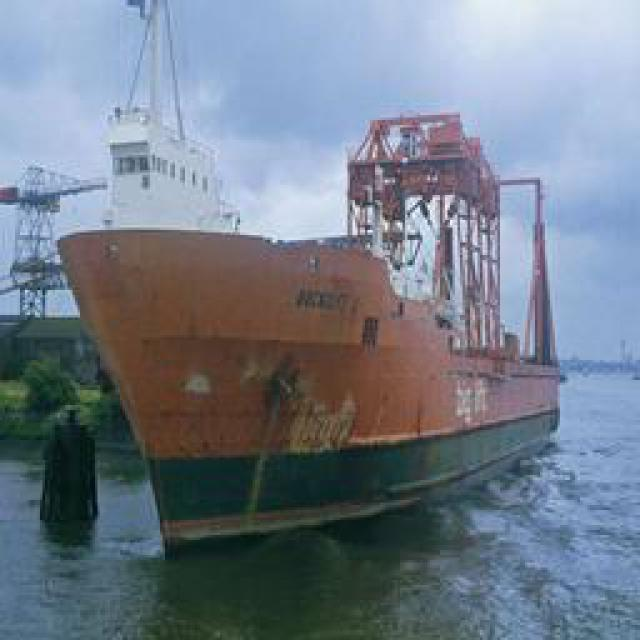Ship: (51, 78, 561, 536)
